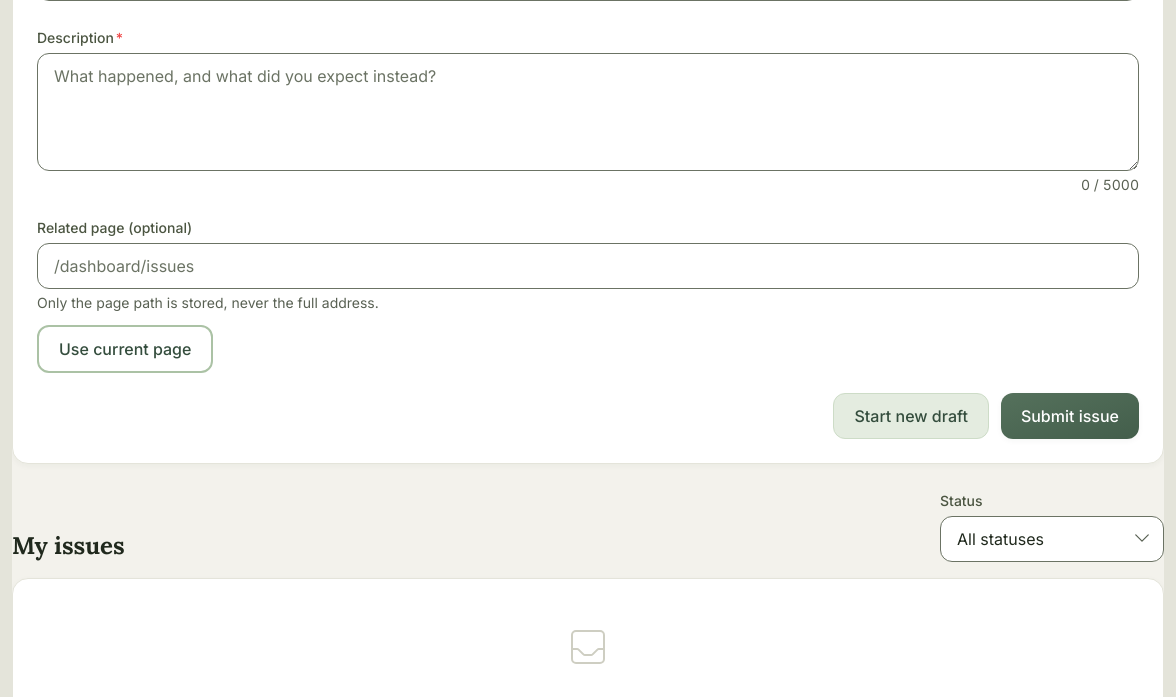
Scenario: ReportIssuePage.vue › captures only the router pathname as context, never the query string
(page scrolled)
Click the button with test id "issue-use-current-page". click: (125, 349)
box: [37,325,213,373]
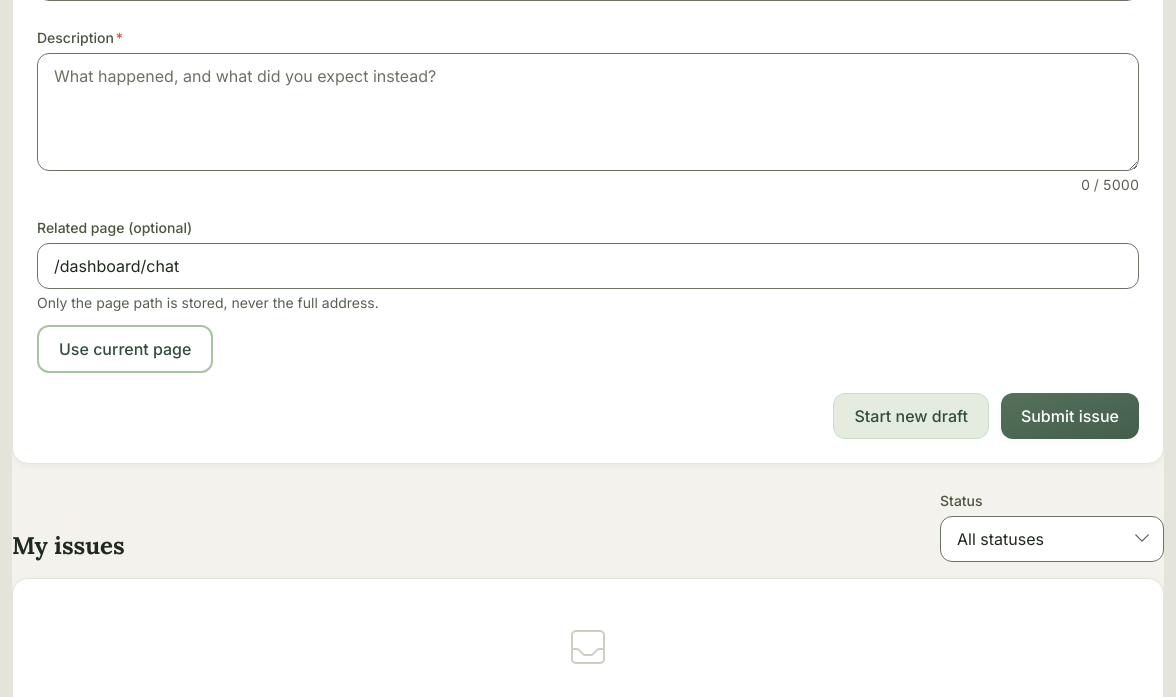
Result: the field with id "issue-page-path" holds "/dashboard/chat" at [37,243,1139,289]
